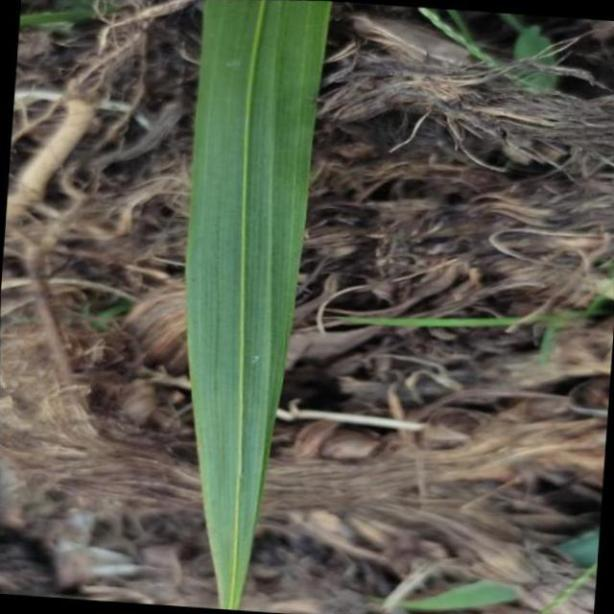Healthy: (184, 0, 339, 614)
